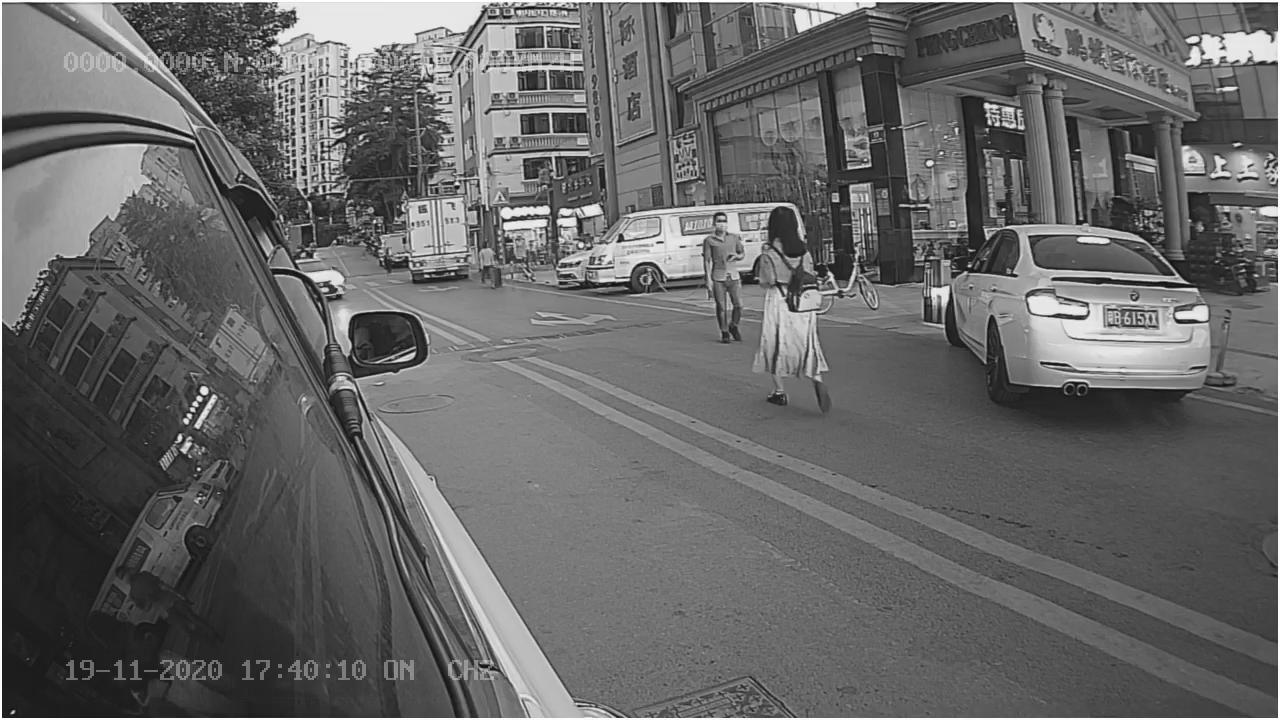person: (750, 208, 845, 420)
